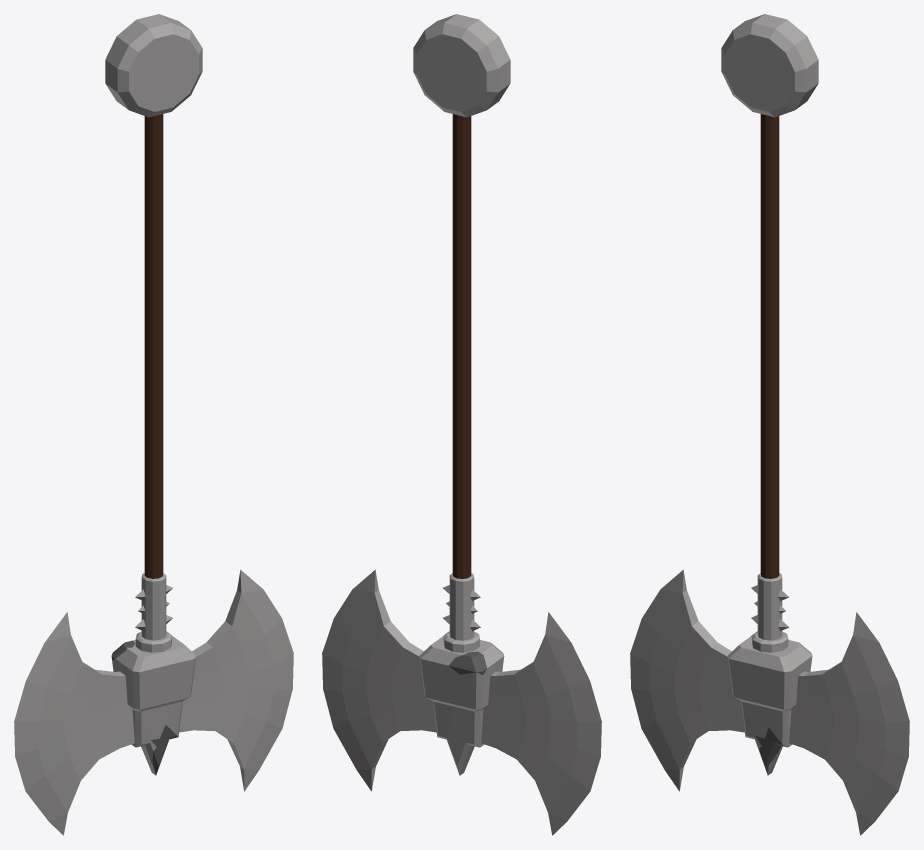
The model's file is MetalPendulumTrap_5.fbx.
3 renders of one model, left to right at view 1: azimuth 30°, elevation 25°; view 2: azimuth 150°, elevation 25°; view 3: azimuth 330°, elevation 25°, orthographic.
Parts seen in each view (by area): view 1: MetalPendulumTrap_5; view 2: MetalPendulumTrap_5; view 3: MetalPendulumTrap_5.
Part boxes in pixels (x1,y1,x2,y2): MetalPendulumTrap_5: [14, 14, 293, 835]; MetalPendulumTrap_5: [322, 14, 601, 835]; MetalPendulumTrap_5: [630, 14, 909, 835].
Bounding box in the file's own units: 125 × 337 × 20.63.
